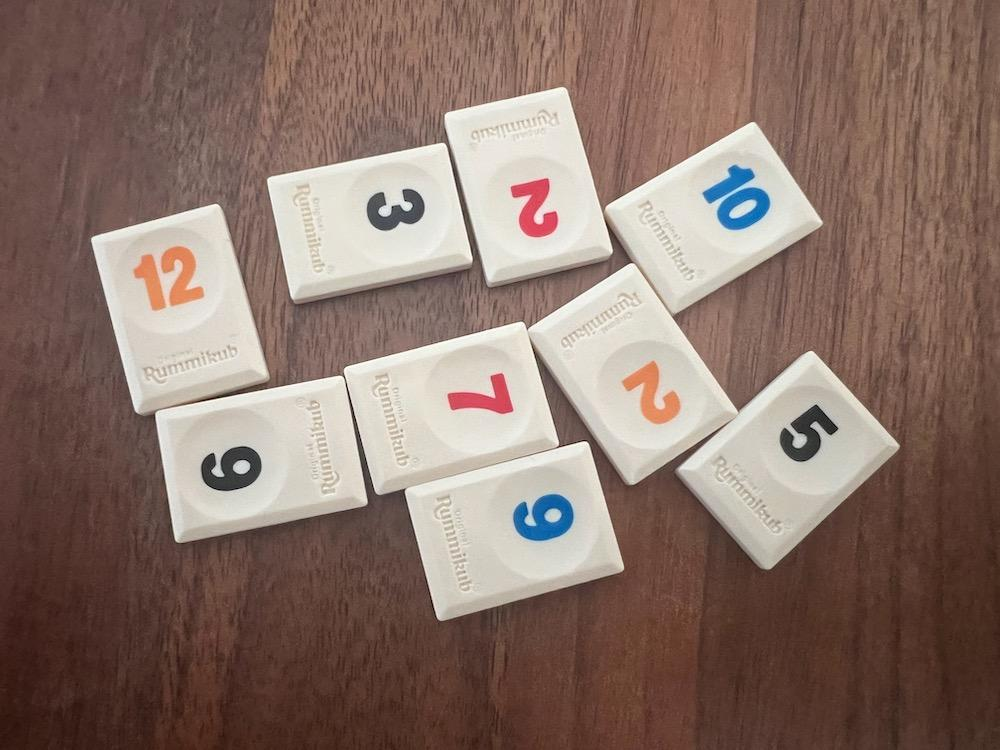black_3: (269, 143, 473, 303)
black_5: (678, 352, 898, 568)
black_6: (156, 377, 367, 543)
blue_10: (605, 123, 822, 314)
blue_9: (406, 441, 623, 619)
orange_12: (92, 205, 270, 414)
orange_2: (529, 264, 736, 484)
red_2: (445, 88, 611, 287)
red_7: (344, 322, 559, 494)
